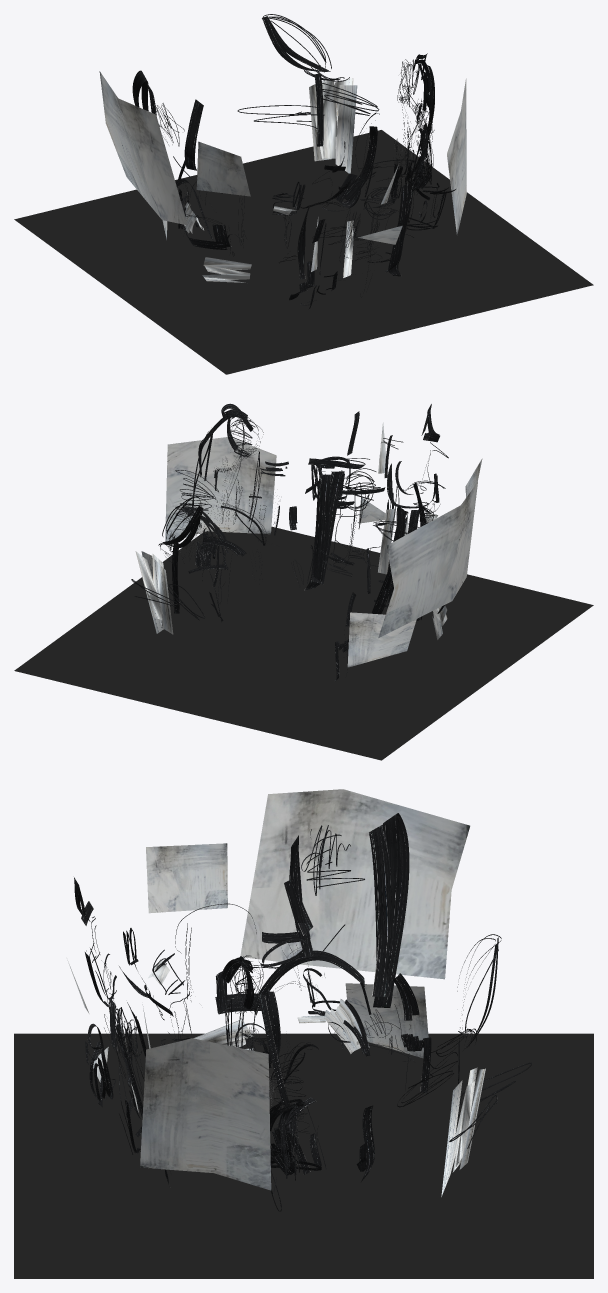
File: systemeundmenschen.glb
The picture shows the model from 3 angles, top to bottom: view 1: azimuth 30°, elevation 25°; view 2: azimuth 150°, elevation 25°; view 3: azimuth 270°, elevation 25°; orthographic projection. The views are drawn at different scales.
Visible parts, largest first — view 1: Plane, black, white; view 2: Plane, white, black; view 3: Plane, white, black.
Boxes of the visible parts, x1,y1,x2,y2 form: Plane: (14, 130, 593, 374); black: (132, 14, 455, 308); white: (99, 71, 466, 282); Plane: (14, 526, 593, 760); white: (135, 422, 482, 667); black: (131, 403, 448, 681); Plane: (14, 1033, 593, 1278); white: (67, 789, 485, 1196); black: (74, 813, 531, 1211).
Size of the model in its own units: 18.48 by 9.44 by 18.48.
3 materials, 2 textured.
